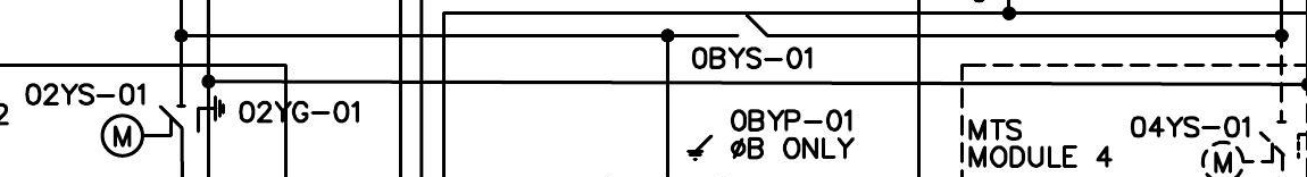115_3ways_ds_w_motor: (99, 94, 226, 159)
115_ds: (734, 15, 769, 38)
